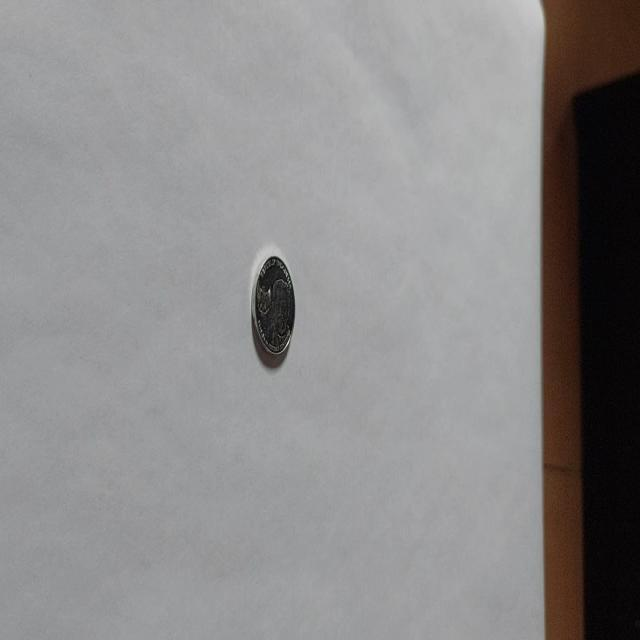seratus rupiah: (250, 252, 296, 358)
